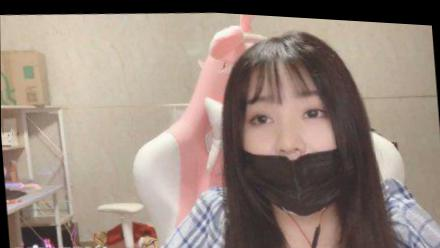WRONG: (240, 72, 349, 221)
